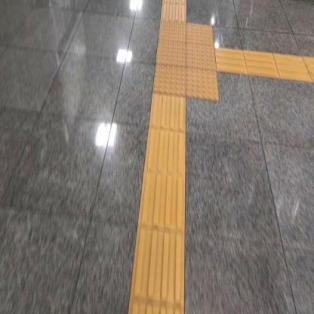Podoctatil: (128, 97, 189, 313), (136, 9, 238, 125), (217, 45, 314, 81), (161, 0, 188, 21)
